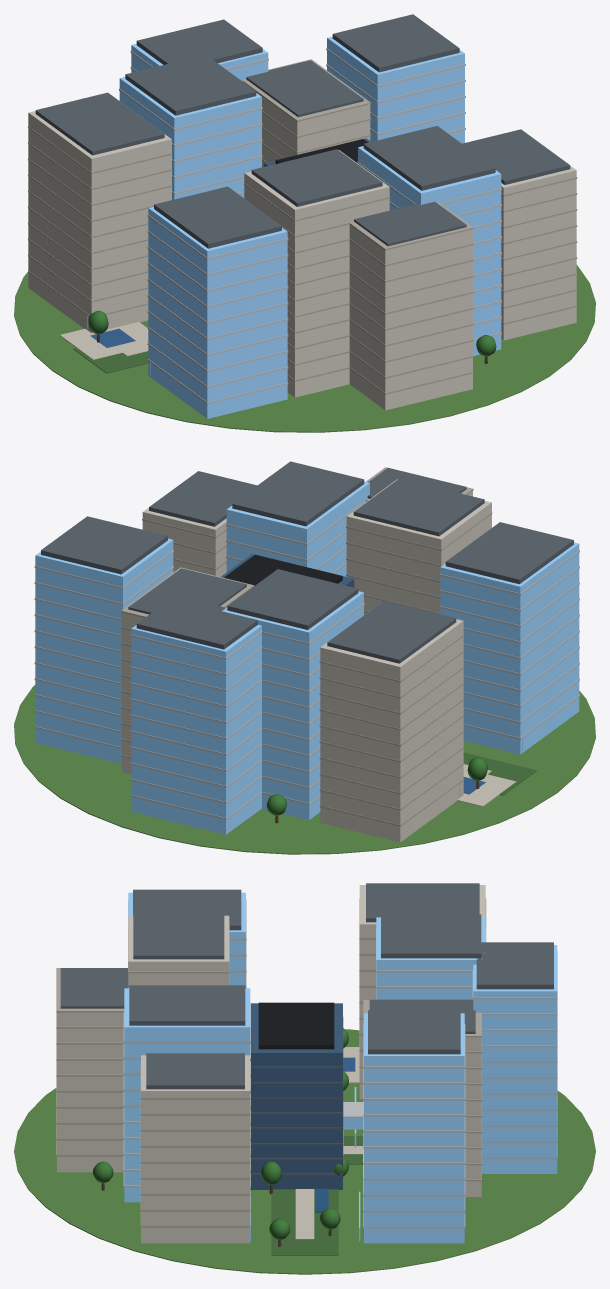
File: lg-science-park.glb
3 views of the same model, one above another, from view 1: azimuth 30°, elevation 25°; view 2: azimuth 150°, elevation 25°; view 3: azimuth 270°, elevation 25° (orthographic).
Bounding box in the file's own units: 138 × 50.58 × 138.
